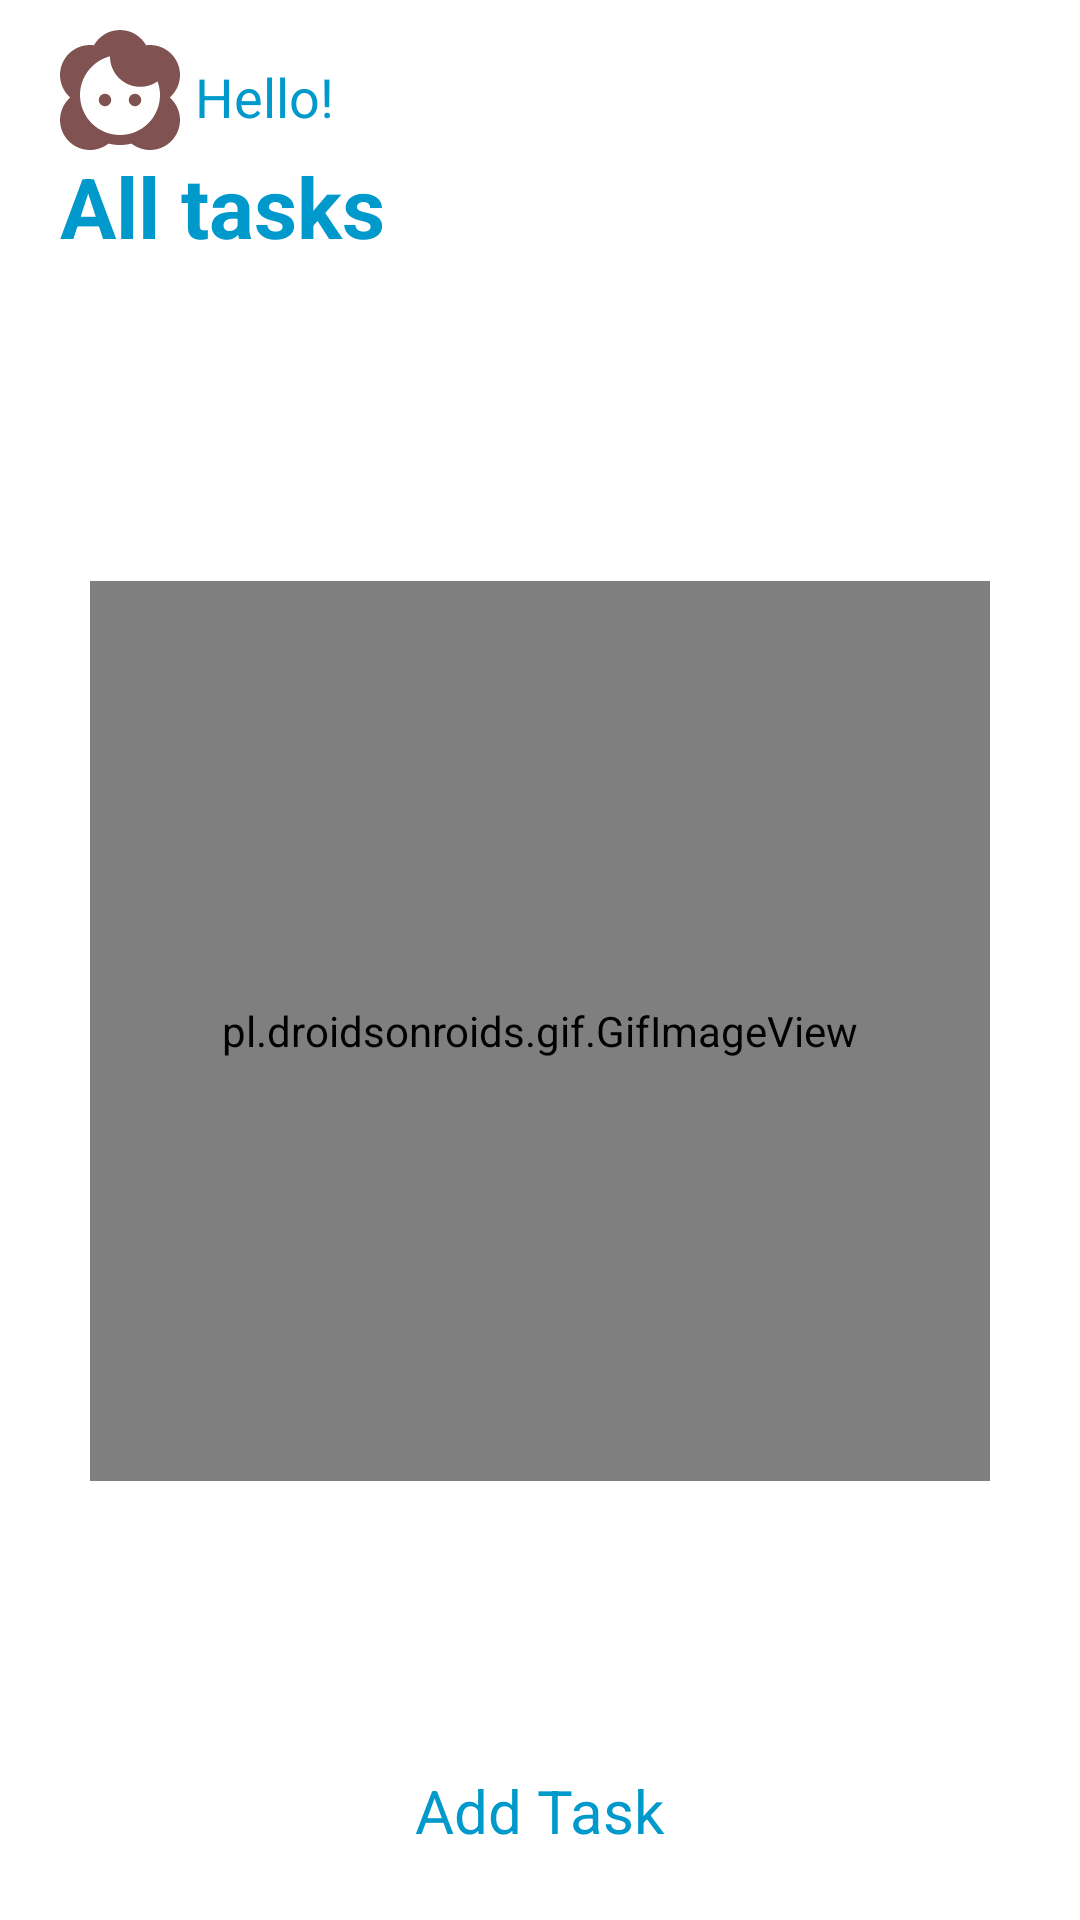

Named icons in this screenshot (1080x1920) and their centers, point (x, y):
face: point (120, 90)
